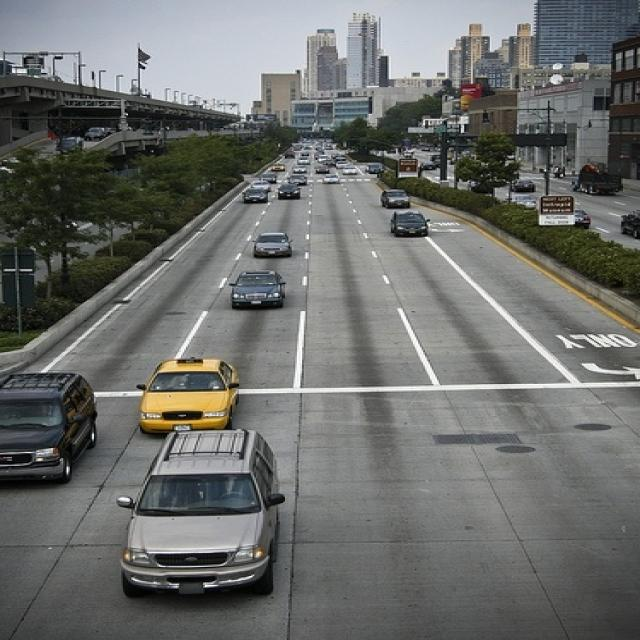Carro Cinza: (115, 422, 291, 608), (254, 228, 295, 260), (377, 188, 413, 207)
Carro Preto: (0, 362, 106, 494), (225, 268, 292, 314), (382, 208, 432, 245), (240, 187, 270, 206), (274, 184, 302, 201)
Taxi: (118, 353, 250, 444)
